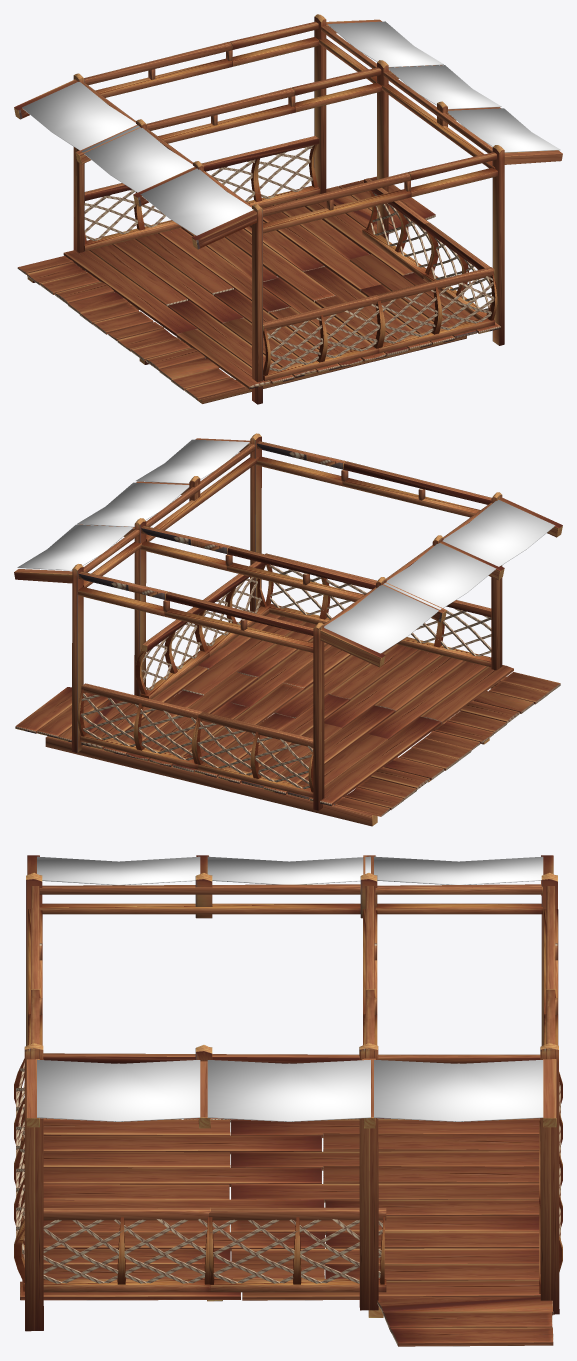
The model's file is Cabana-2.fbx.
3 views of the same model, one above another, from view 1: azimuth 30°, elevation 25°; view 2: azimuth 150°, elevation 25°; view 3: azimuth 270°, elevation 25° (orthographic). The views are drawn at different scales.
Parts seen in each view (by area): view 1: platform.000; view 2: platform.000; view 3: platform.000.
Boxes of the visible parts, left/top/right/bottom form: platform.000: left=14, top=14, right=562, bottom=404; platform.000: left=14, top=433, right=562, bottom=826; platform.000: left=14, top=855, right=562, bottom=1346.
Bounding box in the file's own units: 916 × 471 × 818.
2 materials, 1 textured.
